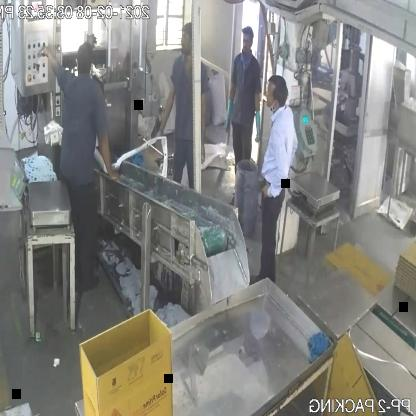glove: (249, 96, 266, 156), (219, 90, 240, 136)
no_glove: (262, 130, 301, 204), (97, 124, 127, 188), (156, 67, 180, 141), (196, 81, 212, 173), (39, 36, 65, 84)
